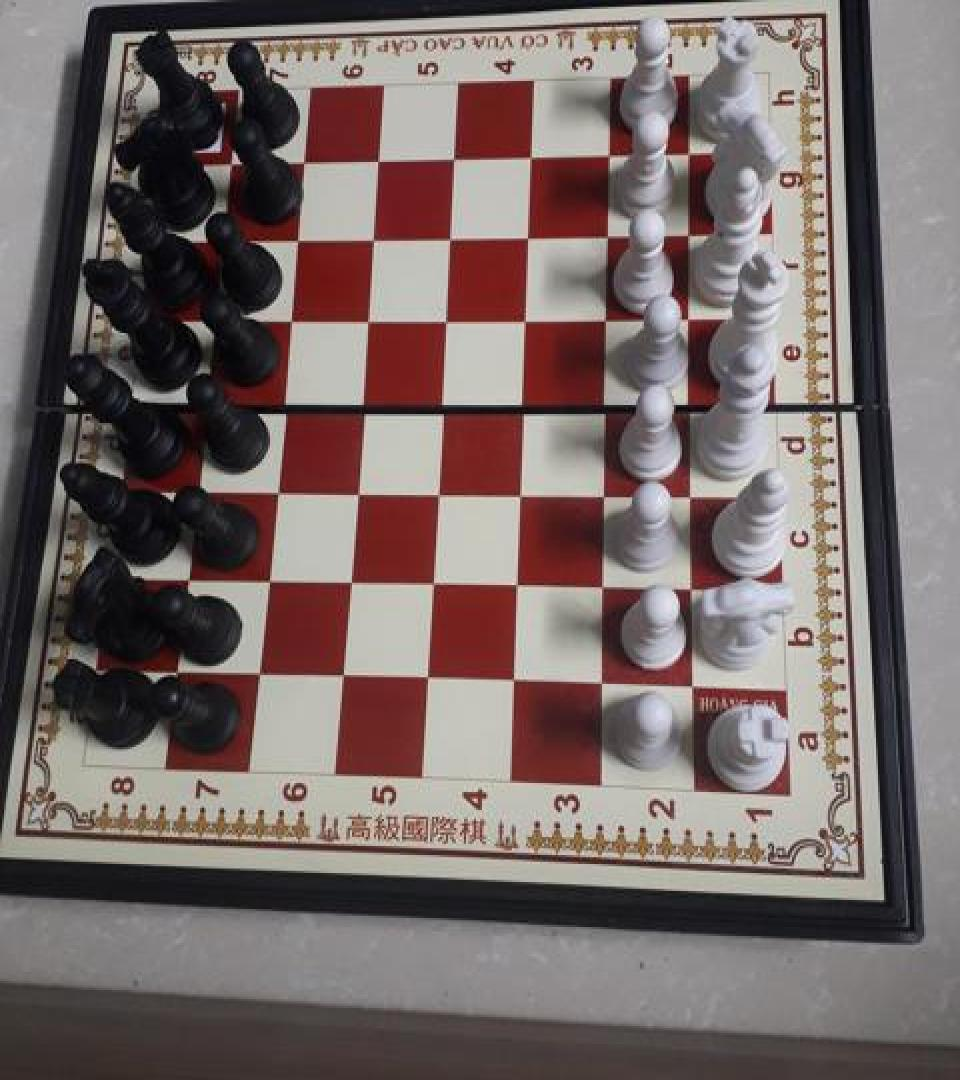xcorner: (435, 221, 465, 256), (514, 220, 544, 255), (595, 139, 625, 174), (162, 654, 192, 688), (244, 658, 274, 692), (328, 660, 358, 694), (500, 667, 530, 701), (588, 670, 618, 704), (678, 674, 708, 708), (172, 562, 202, 596), (252, 564, 282, 598), (334, 566, 364, 600), (418, 568, 448, 602), (503, 570, 533, 604), (589, 572, 619, 606), (678, 575, 708, 609), (181, 472, 211, 506), (260, 474, 290, 508), (422, 477, 452, 511), (506, 478, 536, 512), (591, 479, 621, 513), (677, 480, 707, 514), (190, 387, 220, 421), (267, 387, 297, 421), (346, 388, 376, 422), (427, 388, 457, 422), (508, 389, 538, 423), (592, 389, 622, 423), (677, 389, 707, 423), (198, 305, 228, 339), (275, 304, 305, 338), (352, 304, 382, 338), (431, 304, 461, 338), (511, 302, 541, 336), (593, 302, 623, 336), (676, 302, 706, 336), (207, 225, 237, 259), (281, 224, 311, 258), (358, 222, 388, 256), (594, 219, 624, 253), (676, 218, 706, 252), (215, 148, 245, 182), (288, 146, 318, 180), (363, 145, 393, 179), (439, 143, 469, 177), (516, 142, 546, 176), (675, 138, 705, 172), (413, 664, 443, 697), (340, 475, 370, 508)
